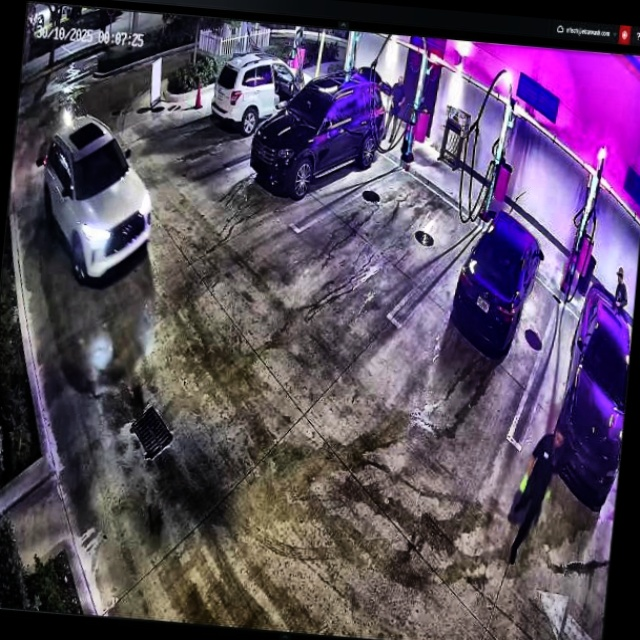Car: (247, 65, 389, 207), (448, 208, 546, 358)
